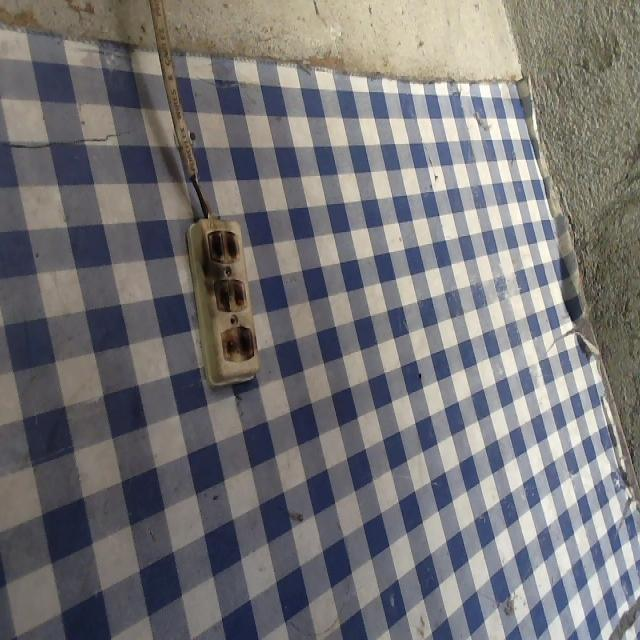-: (197, 224, 259, 367)
